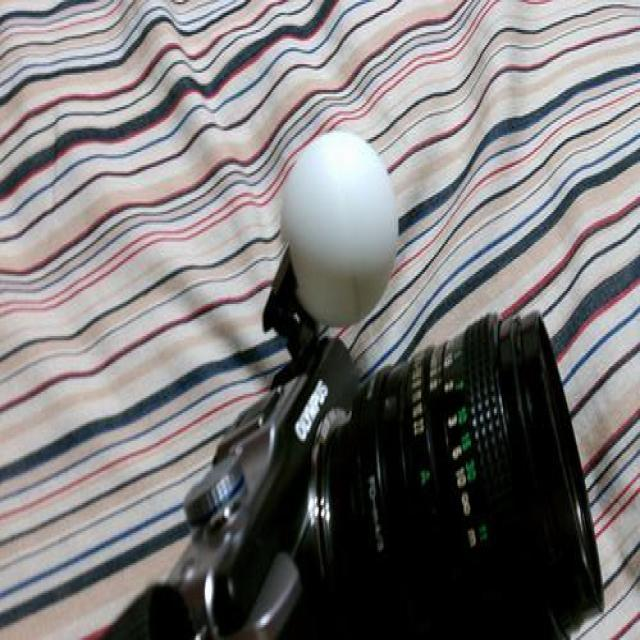ping-pong-ball: (279, 131, 402, 331)
